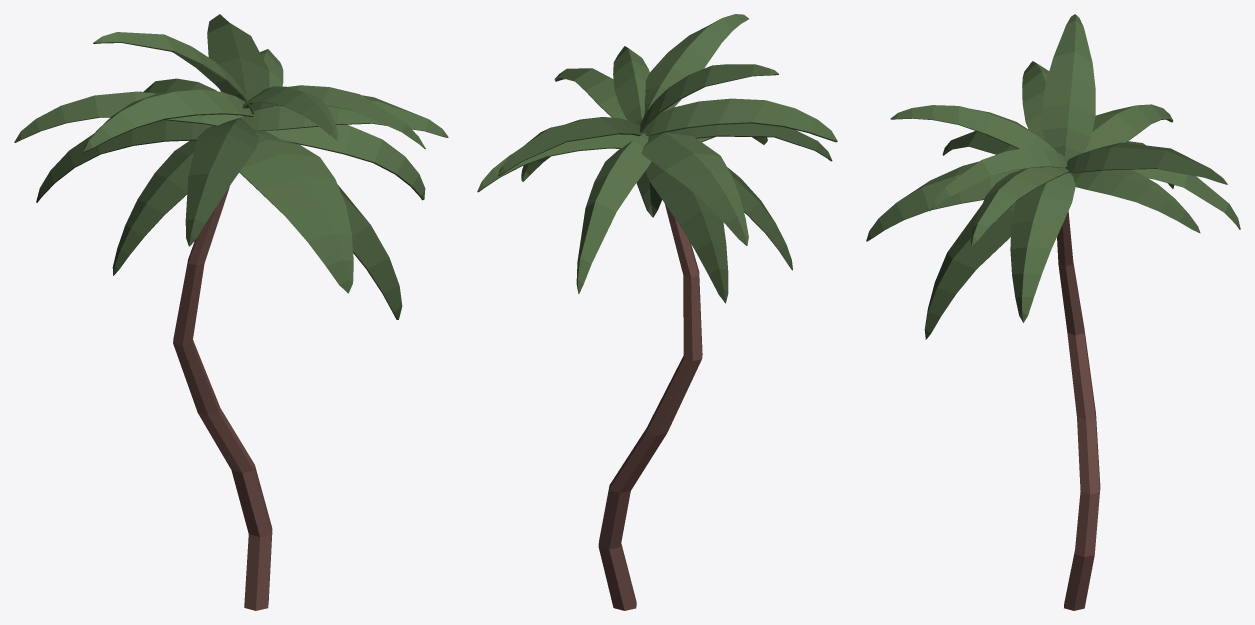
File: palmtree_1.002_lev1.glb
3 views of the same model, side by side, from view 1: azimuth 30°, elevation 25°; view 2: azimuth 150°, elevation 25°; view 3: azimuth 270°, elevation 25° (orthographic). The views are drawn at different scales.
Visible parts, largest first — view 1: palmtree_1.002_lev1; view 2: palmtree_1.002_lev1; view 3: palmtree_1.002_lev1.
Boxes of the visible parts, x1,y1,x2,y2 form: palmtree_1.002_lev1: [14, 14, 448, 610]; palmtree_1.002_lev1: [477, 14, 837, 610]; palmtree_1.002_lev1: [866, 14, 1240, 610].
Bounding box in the file's own units: 2.61 × 4.47 × 2.88.
